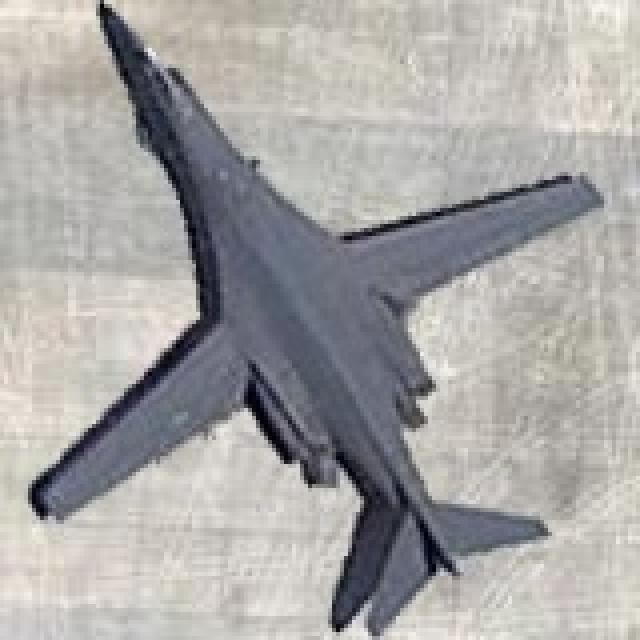B-1_TopDown: (24, 0, 604, 636)
